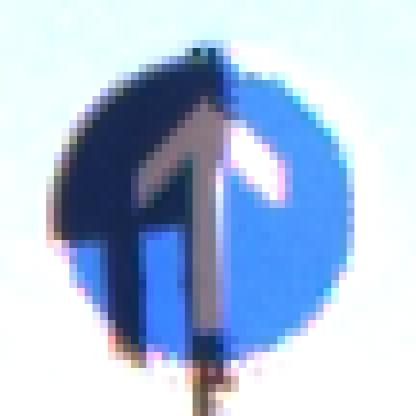AheadOnly: (40, 49, 379, 377)
